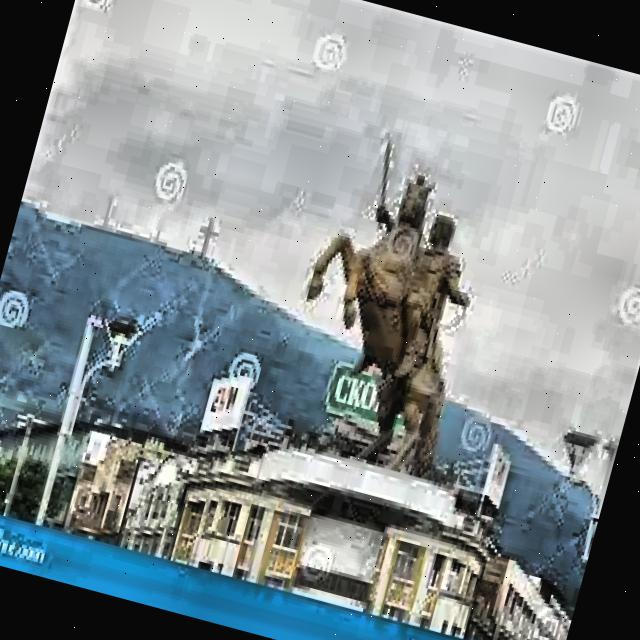alexander the great monument: (221, 120, 548, 621)
